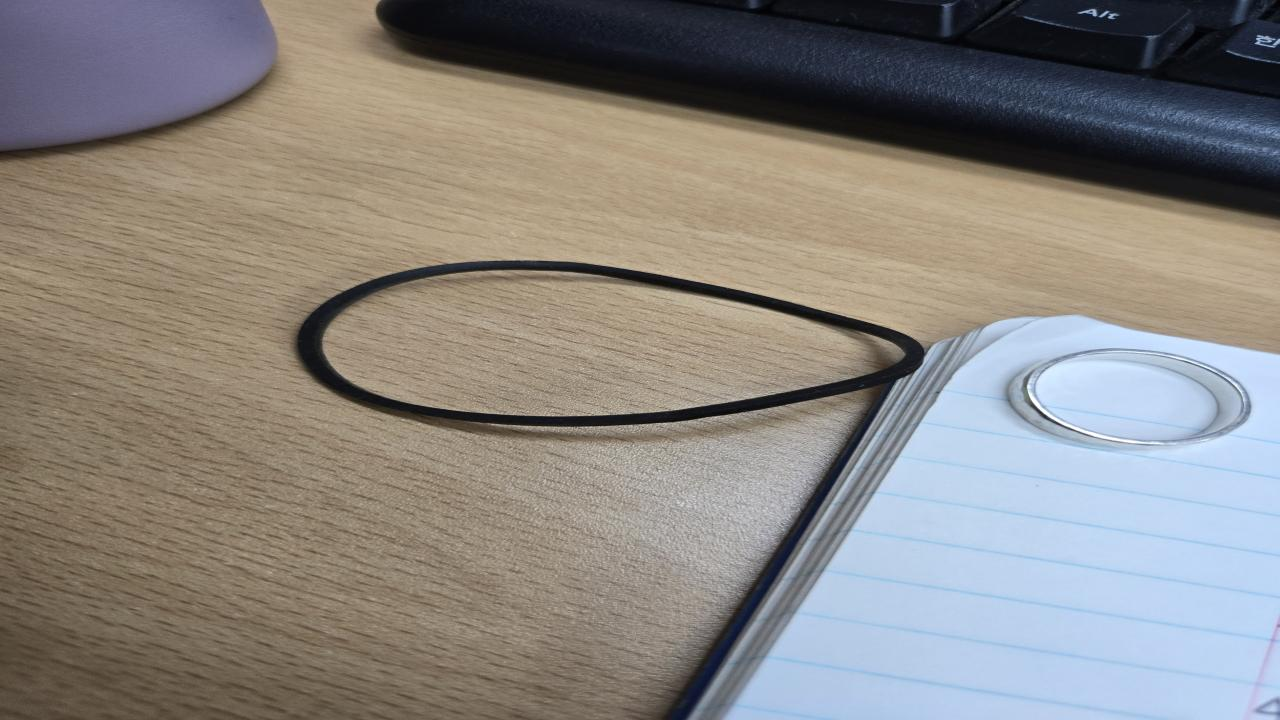ring: (1006, 346, 1254, 452)
